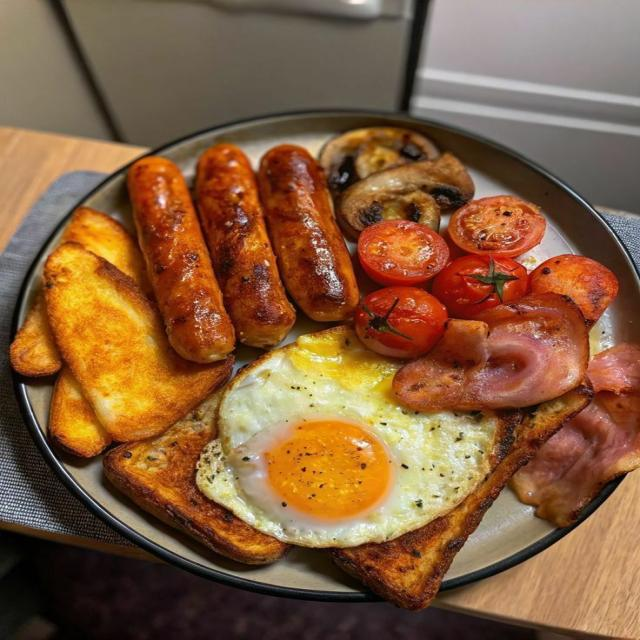sliced_tomato: (357, 219, 449, 286), (449, 196, 545, 257)
